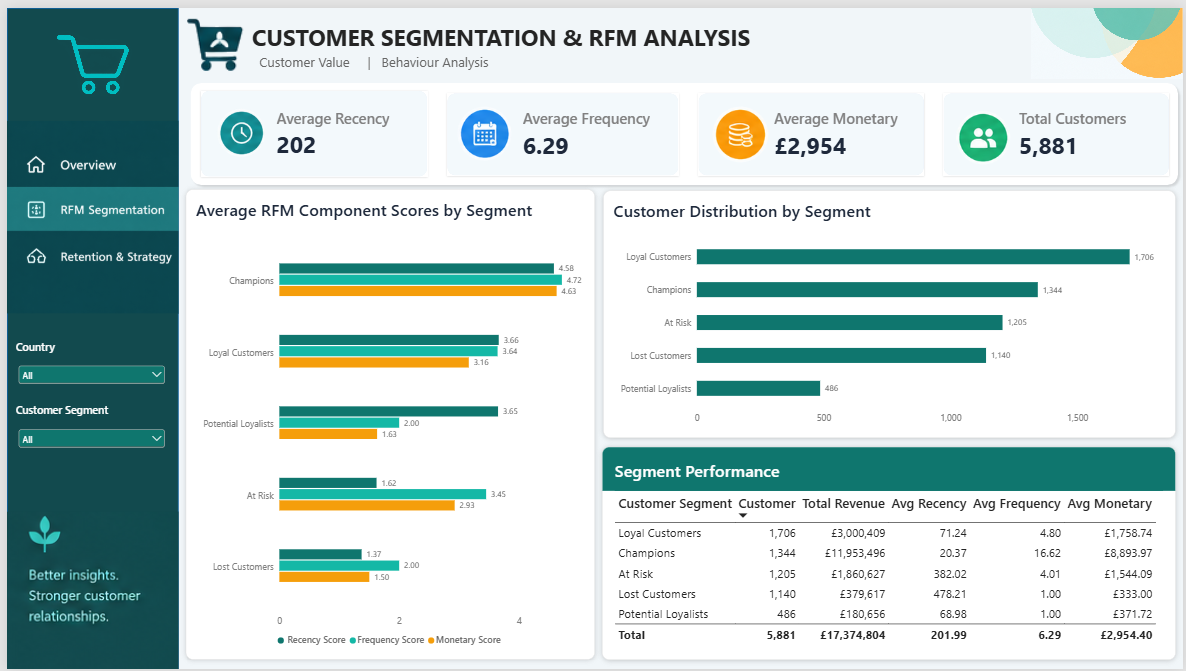

What the dashboard file says about the page in this screenshot:
{"tool":"powerbi","page":{"name":"RFM Customer Segmentation","canvas":[1920,1080],"ordinal":1},"visuals":[{"type":"shape","box":[0,0,280,1080],"z":0},{"type":"image","box":[0,0,280,172],"z":1000},{"type":"image","box":[0,172,280,340],"z":2000},{"type":"image","box":[0,822,280,258],"z":3000},{"type":"textbox","box":[400,22,1520,112],"z":4000},{"type":"image","box":[294,4,92,112],"z":5000},{"type":"image","box":[1672,0,248,116],"z":6000},{"type":"textbox","box":[400,74,924,42],"z":7000},{"type":"shape","box":[292.3,113.3,1628,182.7],"z":8000},{"type":"cardVisual","fields":{"Data":["Customers.Average Recency"]},"box":[315.8,133.8,370,141],"z":9000},{"type":"cardVisual","fields":{"Data":["Customers.Average Frequency"]},"box":[717.9,138.9,378.2,135.2],"z":10000},{"type":"image","box":[340,136.7,83.3,135],"z":11000},{"type":"image","box":[733.3,136.7,93.3,136.7],"z":12000},{"type":"cardVisual","fields":{"Data":["Customers.Average Monetary"]},"box":[1128.2,138.9,369.1,135.2],"z":13000},{"type":"image","box":[1148.3,143.3,96.7,126.7],"z":14000},{"type":"clusteredBarChart","title":"Customer Distribution by Segment","fields":{"Category":["Customers.Customer Segment"],"Y":["Count(Customers.Customer ID)"]},"box":[973.1,298.1,934.6,403.8],"z":15000},{"type":"cardVisual","title":"Active Customer","fields":{"Data":["CountNonNull(Customers.Customer Count)"]},"box":[1529.4,138.9,369.1,135.2],"z":16000},{"type":"slicer","title":"Country","fields":{"Values":["online_retail_clean.Country"]},"box":[15,540,248.3,81.7],"z":17000},{"type":"slicer","title":"Customer Segment","fields":{"Values":["Customers.Customer Segment"]},"box":[15,645,248.3,115],"z":18000},{"type":"image","box":[1546.7,150,93.3,121.7],"z":19000},{"type":"clusteredBarChart","title":"Average RFM Component Scores by Segment","fields":{"Category":["Customers.Customer Segment"],"Y":["Avg(Customers.Recency Score)","Avg(Customers.Frequency Score)","Avg(Customers.Monetary Score)"]},"box":[292.7,295.1,668.3,768.3],"z":20000},{"type":"tableEx","title":"Segment Performance","fields":{"Values":["Customers.Customer Segment","Customers.Customer ID","online_retail_clean.Total Revenue","Customers.Average Recency","Customers.Average Frequency","Customers.Average Monetary"]},"box":[971.2,715.4,936.5,348.1],"z":21000}]}

Visuals, with their boxes on the page's 1920x1080 design canvas (x1, y1, x2, y2). These are canvas units, not pixel positions in the 1186x671 screenshot, which may show the page scaled, cropped or inside an application window:
shape: x1=0 y1=0 x2=280 y2=1080
image: x1=0 y1=0 x2=280 y2=172
image: x1=0 y1=172 x2=280 y2=512
image: x1=0 y1=822 x2=280 y2=1080
textbox: x1=400 y1=22 x2=1920 y2=134
image: x1=294 y1=4 x2=386 y2=116
image: x1=1672 y1=0 x2=1920 y2=116
textbox: x1=400 y1=74 x2=1324 y2=116
shape: x1=292 y1=113 x2=1920 y2=296
cardVisual - Customers.Average Recency: x1=316 y1=134 x2=686 y2=275
cardVisual - Customers.Average Frequency: x1=718 y1=139 x2=1096 y2=274
image: x1=340 y1=137 x2=423 y2=272
image: x1=733 y1=137 x2=827 y2=273
cardVisual - Customers.Average Monetary: x1=1128 y1=139 x2=1497 y2=274
image: x1=1148 y1=143 x2=1245 y2=270
"Customer Distribution by Segment" clusteredBarChart: x1=973 y1=298 x2=1908 y2=702
"Active Customer" cardVisual: x1=1529 y1=139 x2=1898 y2=274
"Country" slicer: x1=15 y1=540 x2=263 y2=622
"Customer Segment" slicer: x1=15 y1=645 x2=263 y2=760
image: x1=1547 y1=150 x2=1640 y2=272
"Average RFM Component Scores by Segment" clusteredBarChart: x1=293 y1=295 x2=961 y2=1063
"Segment Performance" tableEx: x1=971 y1=715 x2=1908 y2=1064
